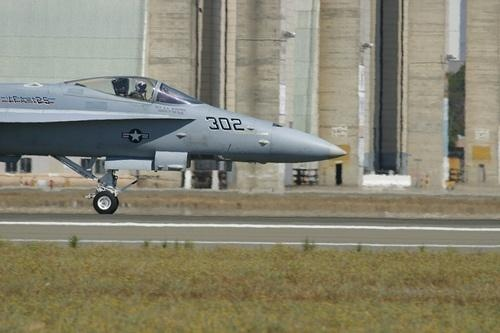aeroplane: (1, 71, 348, 213)
